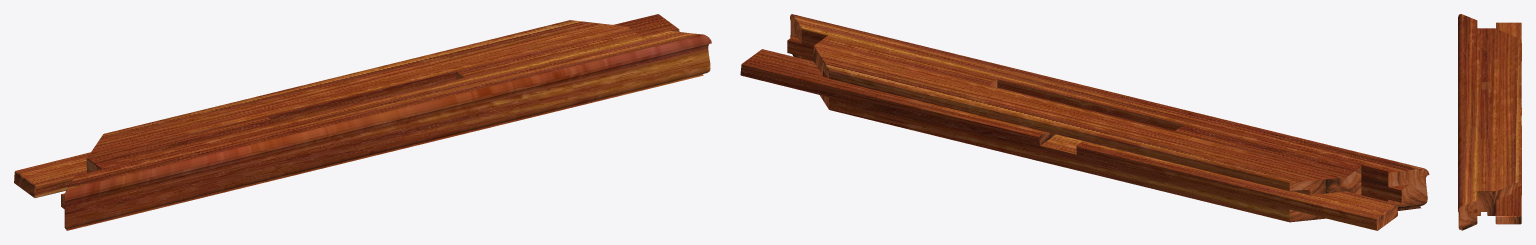
The model's file is GMY_J_dabian_02.FBX.
3 renders of one model, left to right at view 1: azimuth 30°, elevation 25°; view 2: azimuth 150°, elevation 25°; view 3: azimuth 270°, elevation 25°, orthographic. The views are drawn at different scales.
Visible parts, largest first — view 1: GMY_J_dabian_02; view 2: GMY_J_dabian_02; view 3: GMY_J_dabian_02.
Part boxes in pixels (x1,y1,x2,y2): GMY_J_dabian_02: (14, 14, 711, 230); GMY_J_dabian_02: (740, 14, 1429, 230); GMY_J_dabian_02: (1458, 14, 1521, 230).
Bounding box in the file's own units: 57.88 × 3.5 × 8.01.
